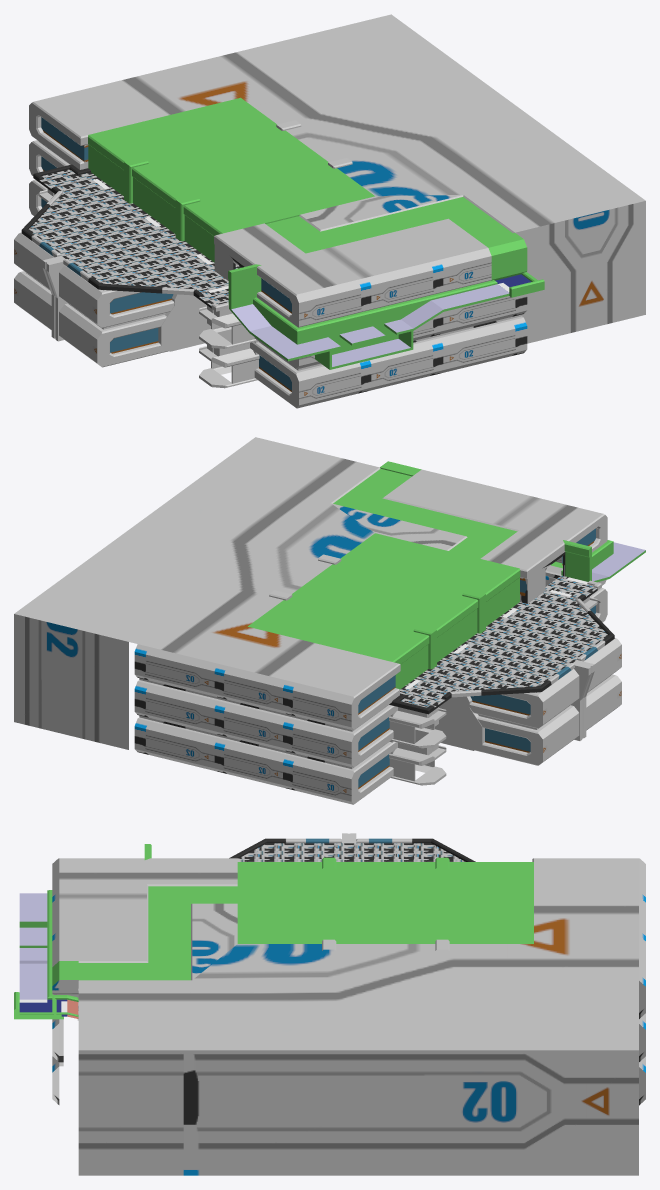
Rendered from Exterior.fbx.
3 renders of one model, top to bottom at view 1: azimuth 30°, elevation 25°; view 2: azimuth 150°, elevation 25°; view 3: azimuth 270°, elevation 25°, orthographic. The views are drawn at different scales.
Parts seen in each view (by area): view 1: Exterior, ExteriorFirstPersonBlock, 2_5DArea, ExteriorTopDownCeiling, ExteriorWhite, ExteriorOrange; view 2: Exterior, ExteriorFirstPersonBlock, ExteriorTopDownCeiling, ExteriorWhite, 2_5DArea, ExteriorOrange; view 3: Exterior, ExteriorFirstPersonBlock, ExteriorTopDownCeiling, 2_5DArea.
Part boxes in pixels (x1=…): Exterior: x1=14, y1=14, x2=645, y2=408; ExteriorFirstPersonBlock: x1=88, y1=97, x2=527, y2=309; 2_5DArea: x1=229, y1=272, x2=544, y2=369; ExteriorTopDownCeiling: x1=266, y1=197, x2=512, y2=253; ExteriorWhite: x1=41, y1=117, x2=291, y2=390; ExteriorOrange: x1=14, y1=130, x2=291, y2=391; Exterior: x1=14, y1=437, x2=621, y2=804; ExteriorFirstPersonBlock: x1=248, y1=461, x2=591, y2=689; ExteriorTopDownCeiling: x1=333, y1=469, x2=517, y2=558; ExteriorWhite: x1=358, y1=528, x2=595, y2=787; 2_5DArea: x1=551, y1=540, x2=645, y2=582; ExteriorOrange: x1=358, y1=540, x2=621, y2=788; Exterior: x1=52, y1=833, x2=645, y2=1175; ExteriorFirstPersonBlock: x1=52, y1=844, x2=533, y2=1019; ExteriorTopDownCeiling: x1=78, y1=886, x2=237, y2=980; 2_5DArea: x1=14, y1=890, x2=78, y2=1019.
Size of the model in its own units: 107 by 25.9 by 112.
